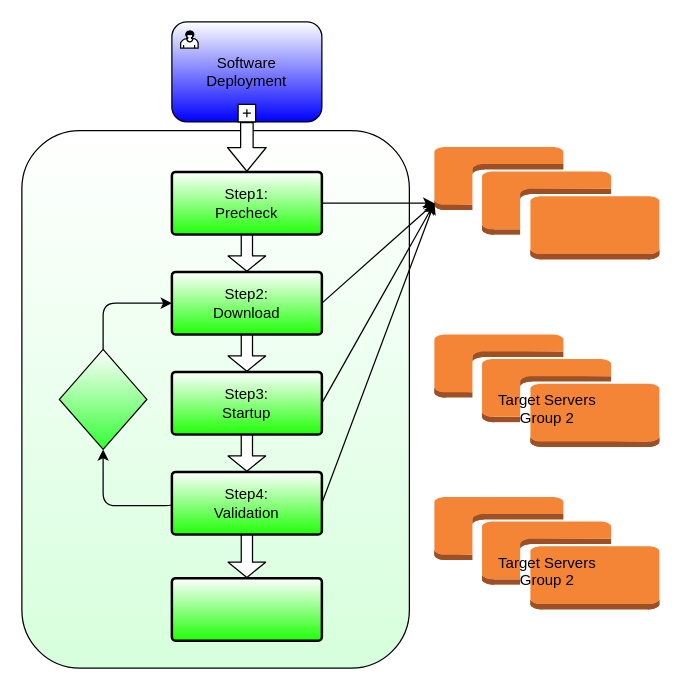
This 681x690 diagram has some shape labels left out. Each missing label, with the centre of its shape:
Next Group?: point 102,398
Step5: Done: point 246,608
Target Servers Group 1: point 546,202
